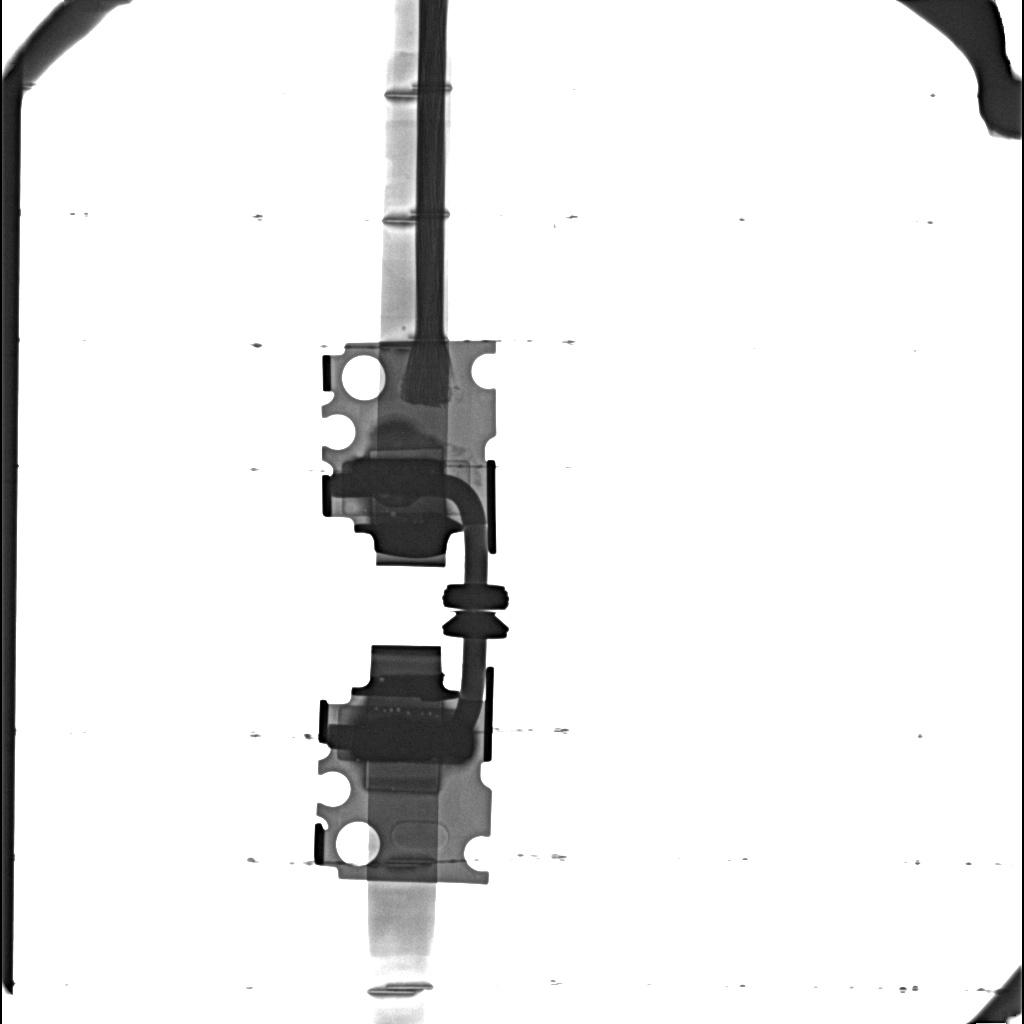PX: (363, 762, 441, 794), (367, 445, 444, 459)
SX: (353, 719, 474, 763), (352, 459, 442, 496)
